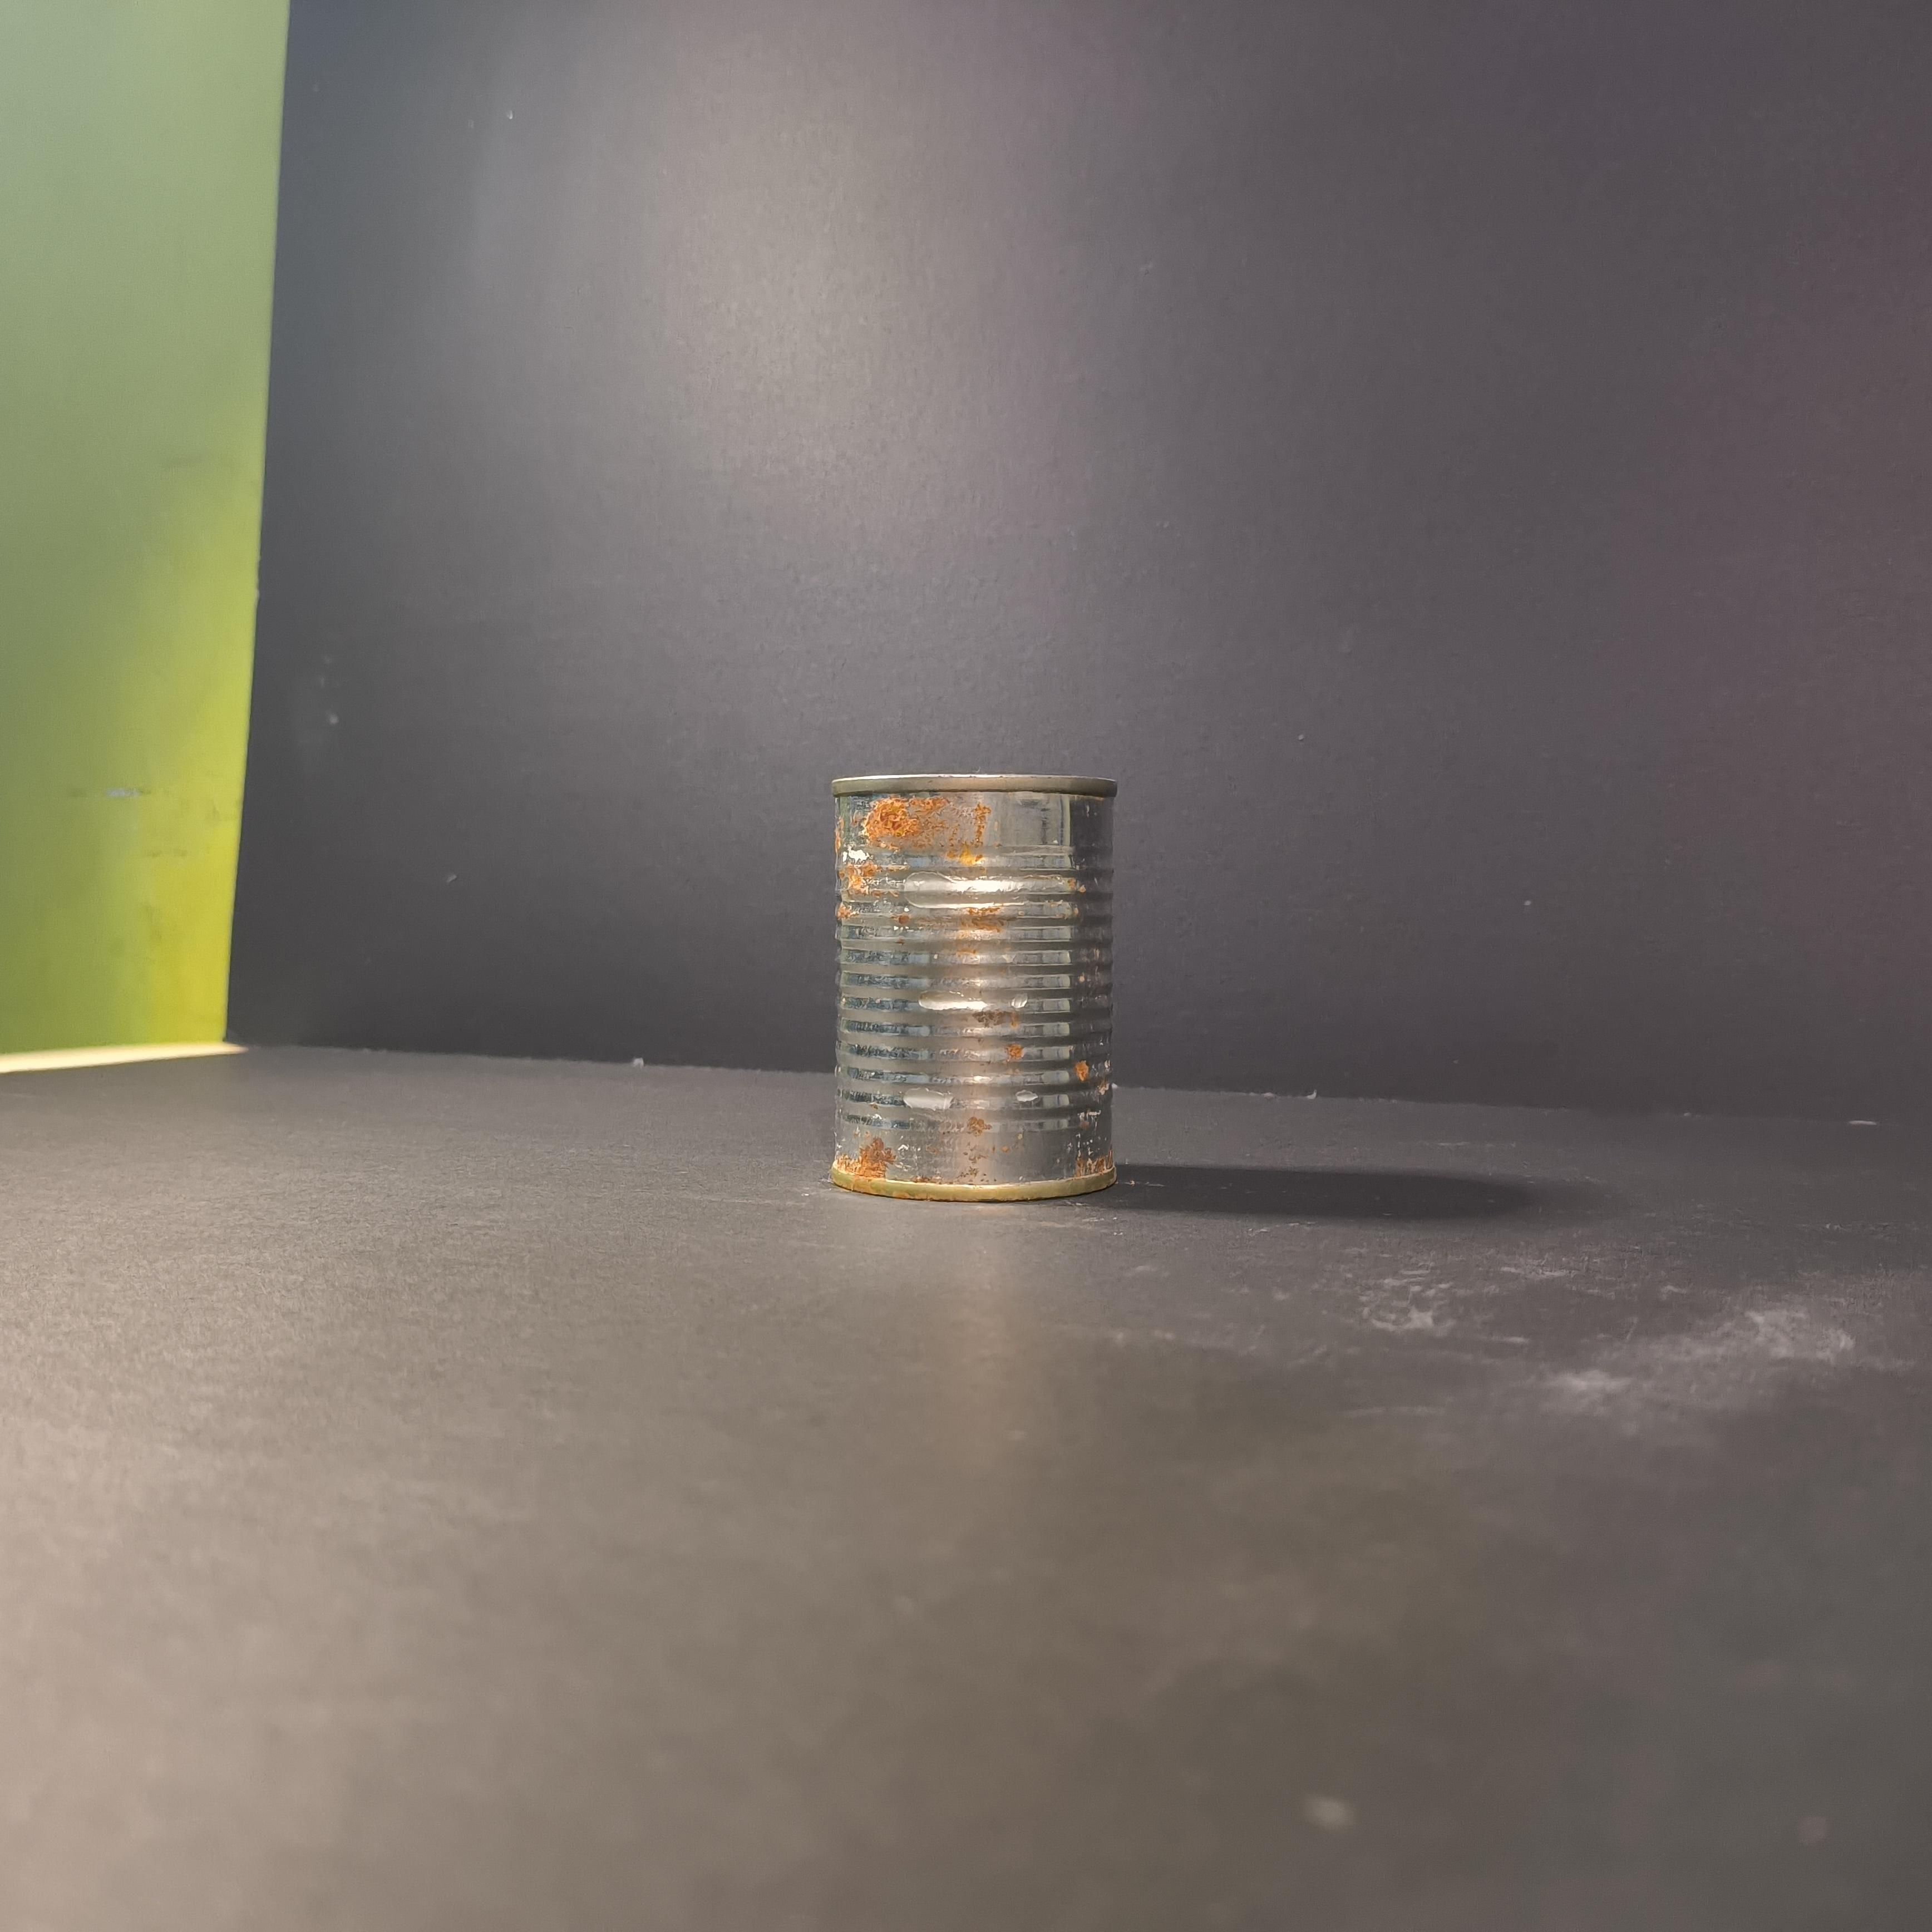Rusted: (826, 754, 1146, 1221)
